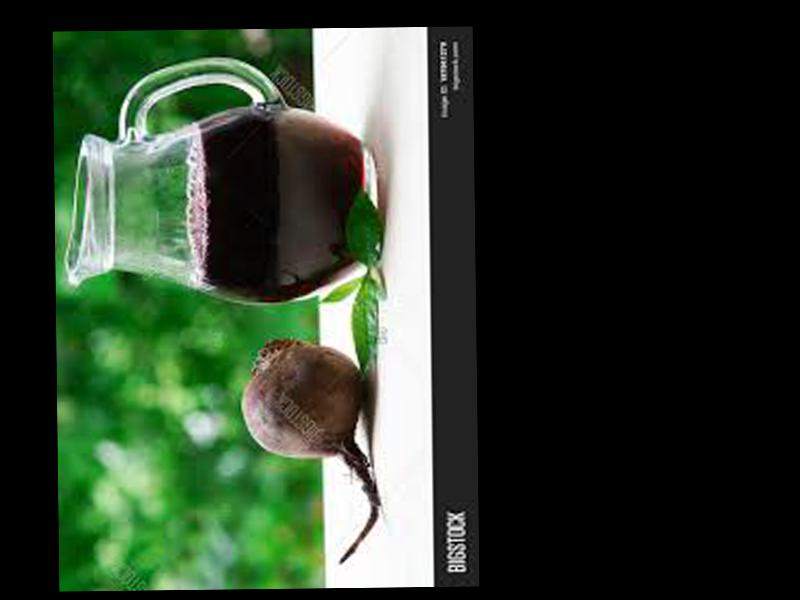Beet: (242, 339, 382, 563)
